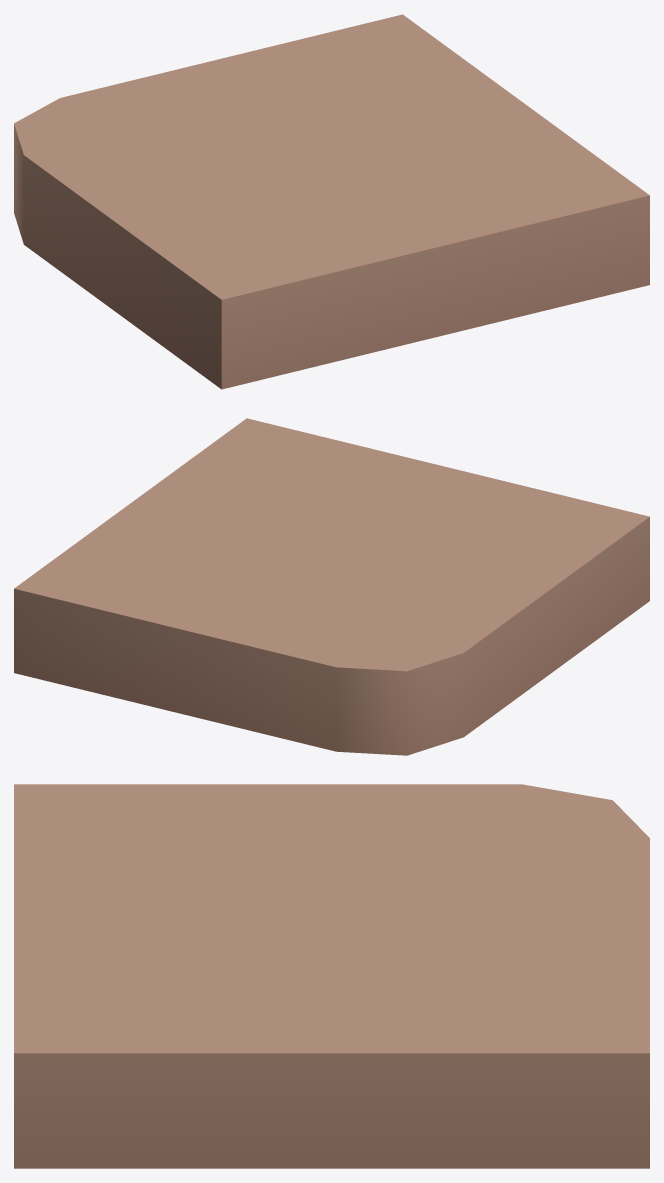
The model's file is surfaces-quarter-surface-rounded.glb.
3 renders of one model, top to bottom at view 1: azimuth 30°, elevation 25°; view 2: azimuth 150°, elevation 25°; view 3: azimuth 270°, elevation 25°, orthographic. The views are drawn at different scales.
Parts seen in each view (by area): view 1: surfaces-quarter-surface-rounded; view 2: surfaces-quarter-surface-rounded; view 3: surfaces-quarter-surface-rounded.
Boxes of the visible parts, x1,y1,x2,y2 form: surfaces-quarter-surface-rounded: [14, 14, 649, 389]; surfaces-quarter-surface-rounded: [14, 418, 649, 755]; surfaces-quarter-surface-rounded: [14, 784, 649, 1168].
Size of the model in its own units: 0.5 by 0.1 by 0.5.
